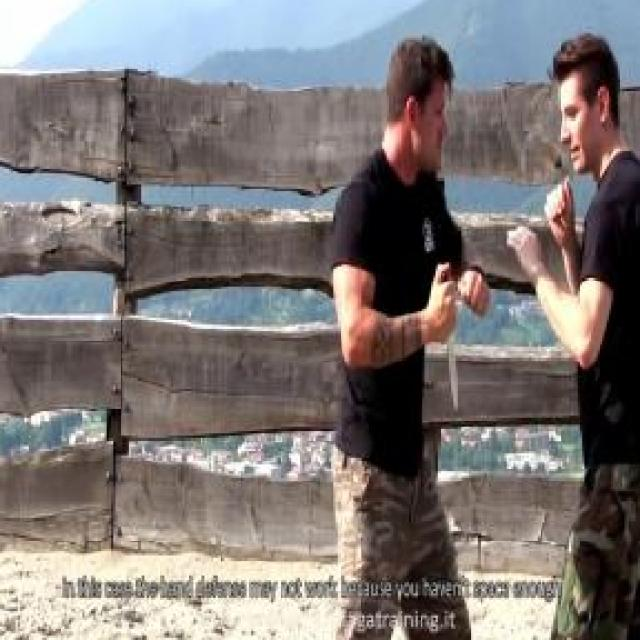knife: (429, 278, 462, 413)
